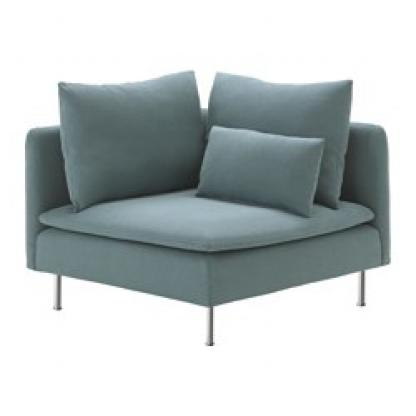Sofa: (16, 33, 392, 358)
